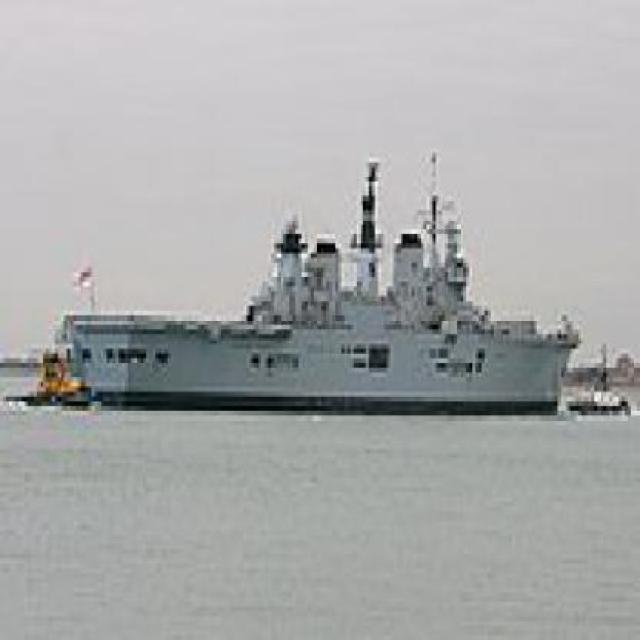warship2: (40, 129, 577, 431)
